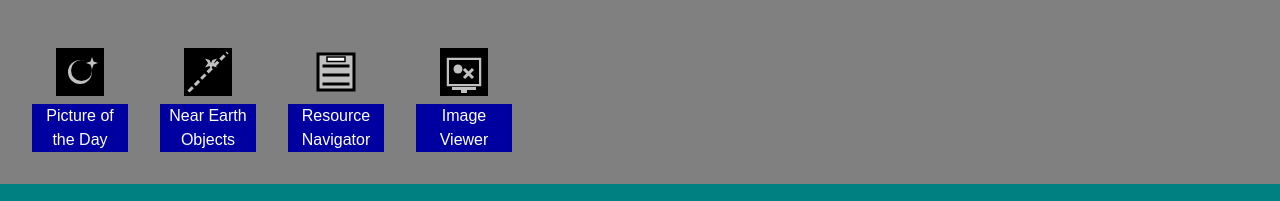
System 7 Interface Integration Tests › Error Handling Integration › should handle NASA app loading errors gracefully
Double-click the button with test id "desktop-icon-apod".
double_click(80, 72)  # box [32,48,128,152]
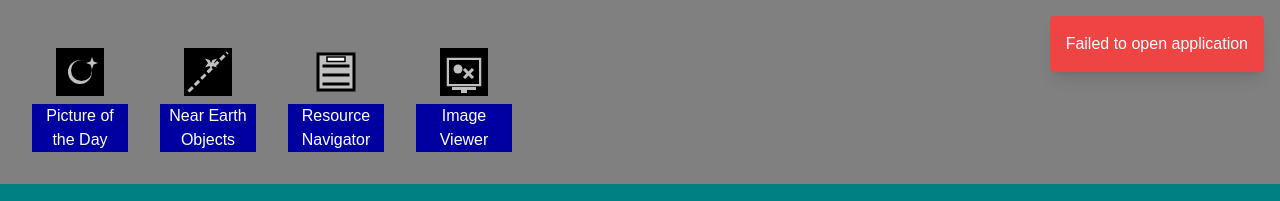
Expected: the message "Failed to open application" is shown, [1050,16,1264,72]
